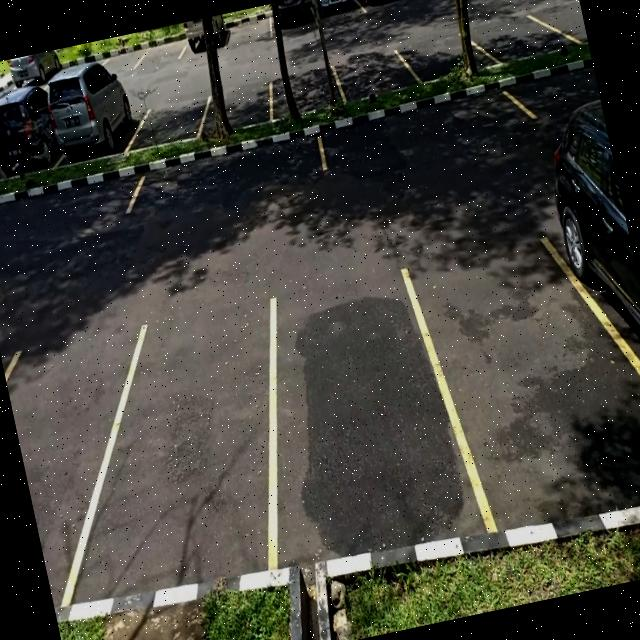empty: (68, 303, 302, 597), (246, 268, 474, 562), (420, 224, 634, 536), (2, 346, 124, 604), (314, 78, 528, 173), (133, 128, 330, 216), (0, 164, 142, 252), (400, 27, 489, 86), (478, 10, 560, 70), (196, 80, 278, 140), (130, 94, 208, 154), (333, 44, 411, 104), (266, 64, 342, 120), (132, 28, 188, 72), (222, 4, 273, 46)
occupied: (45, 86, 142, 168), (0, 91, 62, 181), (179, 14, 230, 58), (265, 0, 316, 35), (309, 0, 361, 23), (355, 0, 403, 12)
